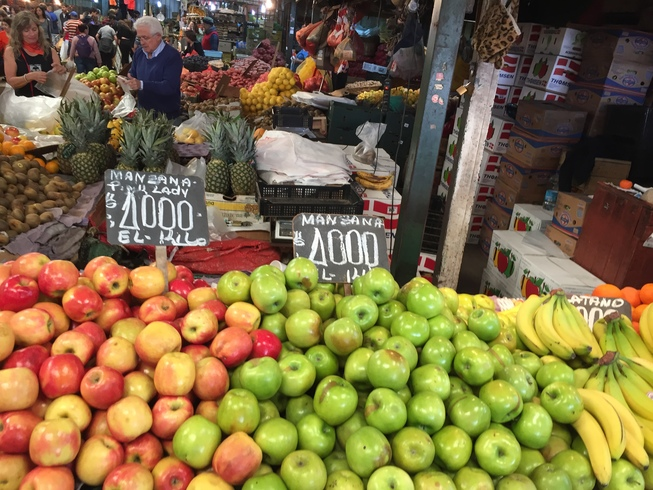precio: (106, 169, 213, 249), (292, 211, 391, 292)
